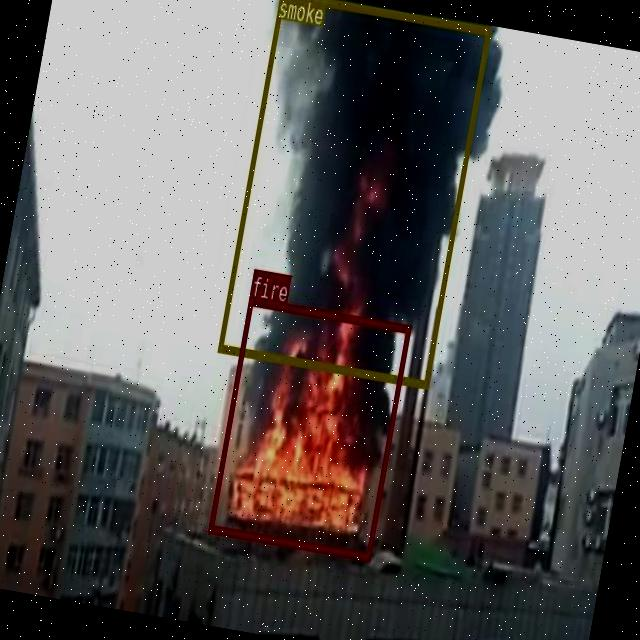fire: (207, 296, 410, 558)
smoke: (216, 0, 490, 387)
